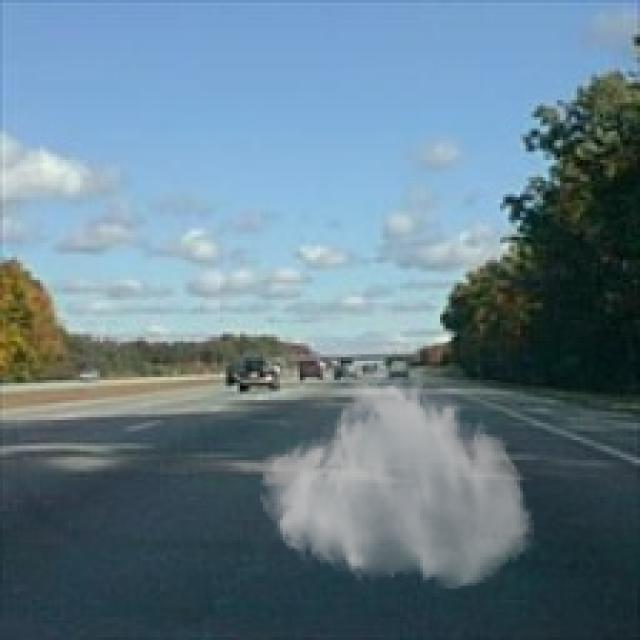smoke: (257, 368, 537, 592)
